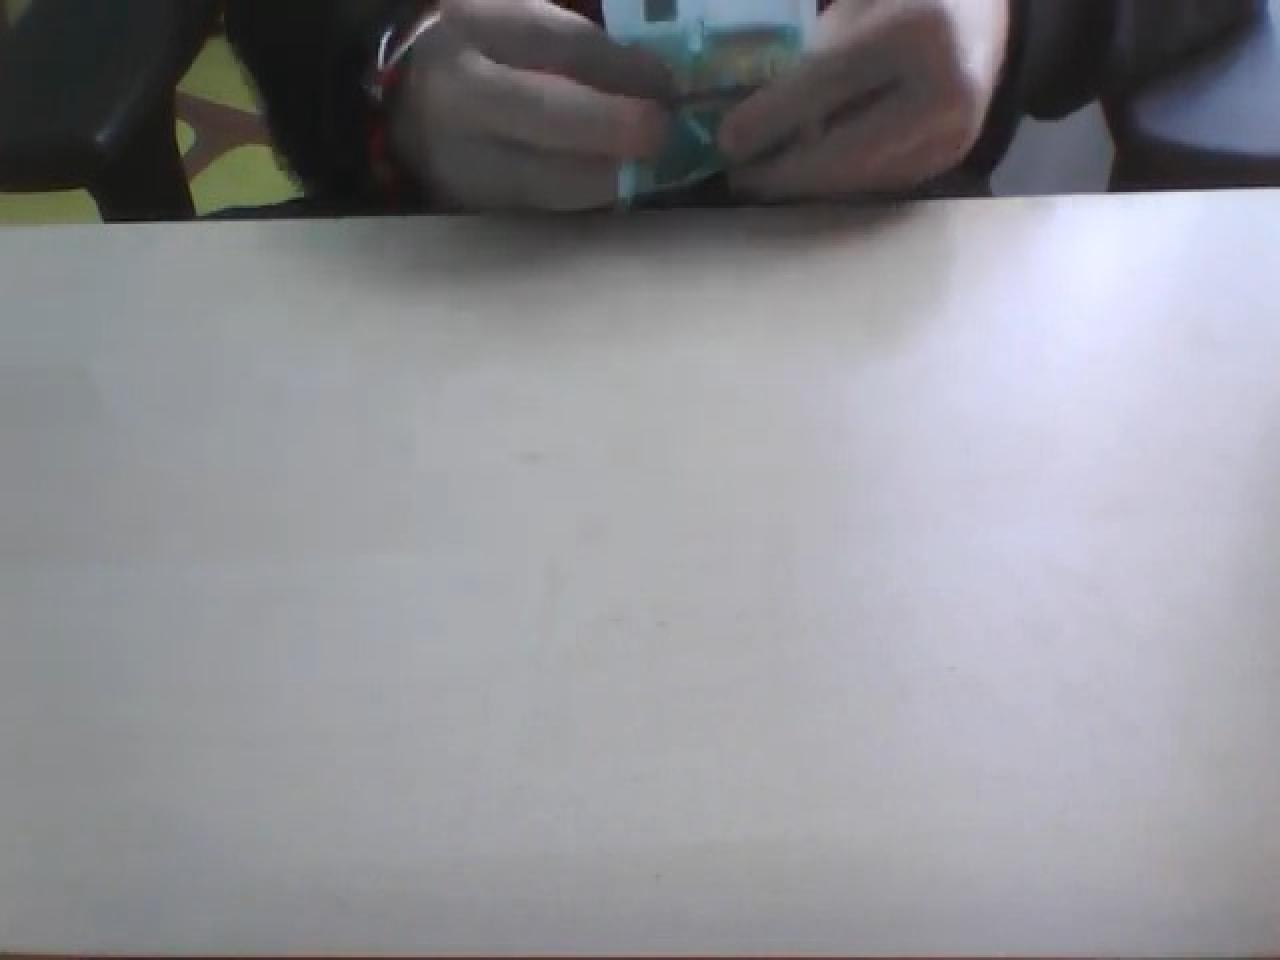100leva: (600, 0, 822, 205)
